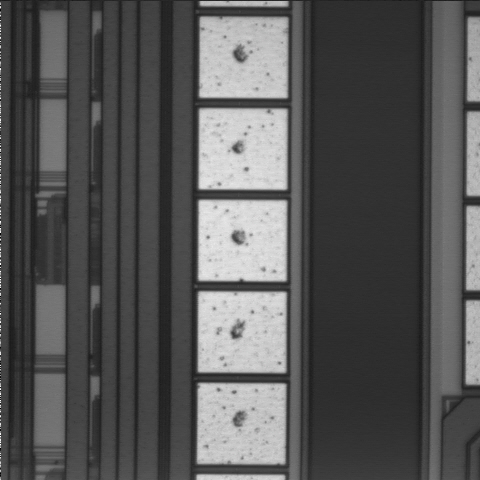pad: (199, 200, 287, 281), (199, 109, 287, 189), (198, 292, 286, 372), (197, 384, 285, 464), (200, 18, 287, 98)
